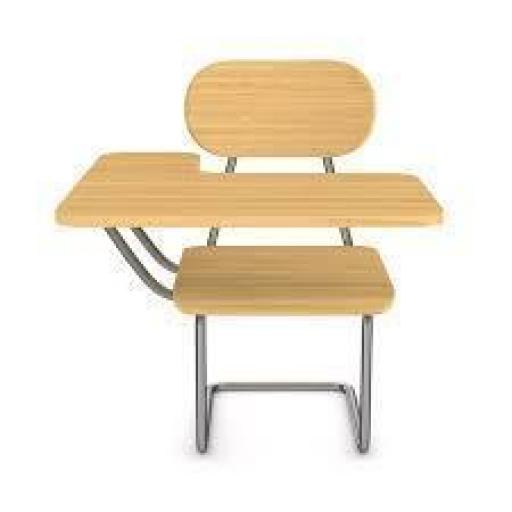chair: (46, 52, 452, 462)
